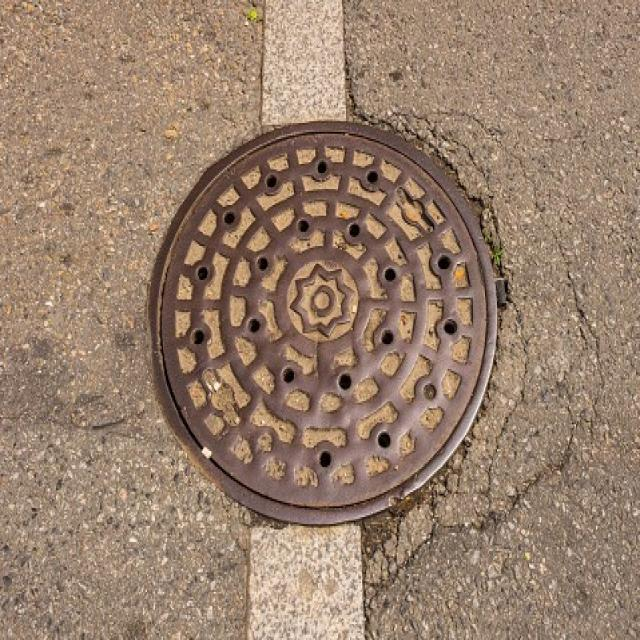manhole: (150, 122, 496, 524)
